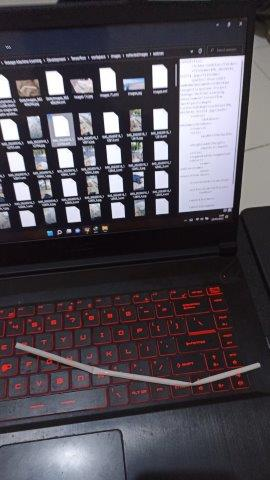sedotan: (16, 343, 260, 386)
